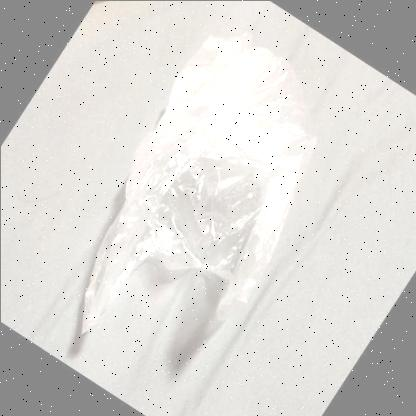Others: (86, 33, 316, 359)
